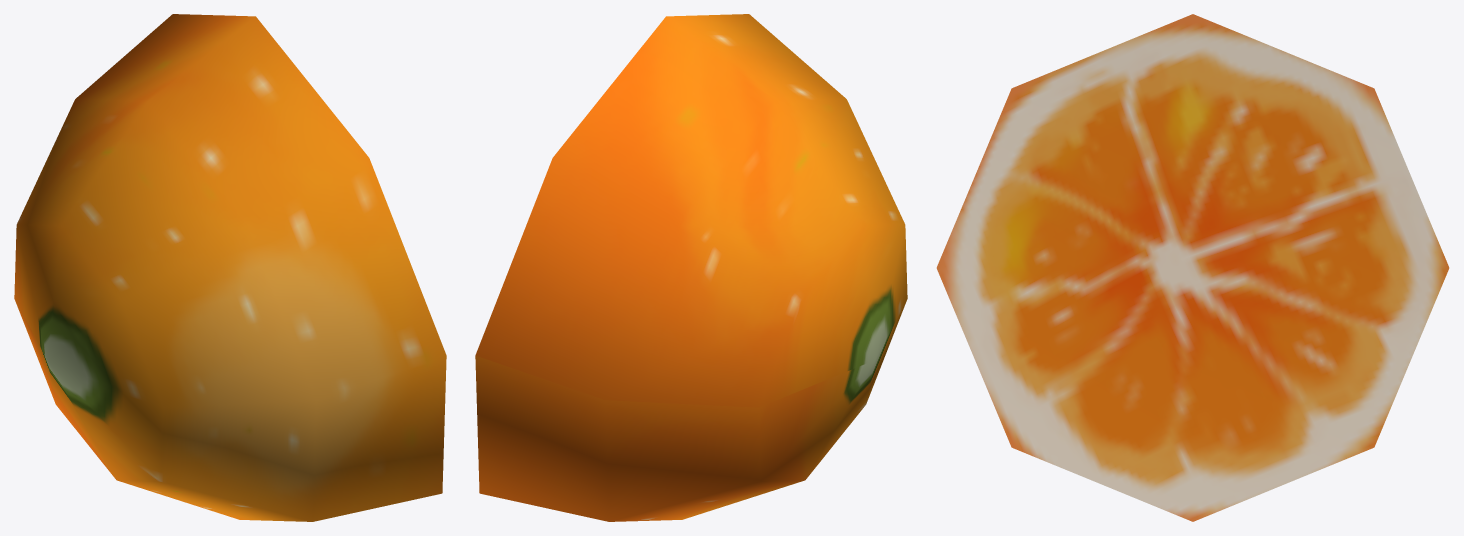
Rendered from SM_PROP_food_orange_02.FBX.
3 views of the same model, side by side, from view 1: azimuth 30°, elevation 25°; view 2: azimuth 150°, elevation 25°; view 3: azimuth 270°, elevation 25° (orthographic). The views are drawn at different scales.
Visible parts, largest first — view 1: SM_PROP_food_orange_02; view 2: SM_PROP_food_orange_02; view 3: SM_PROP_food_orange_02.
Part boxes in pixels (<box>): SM_PROP_food_orange_02: <box>14,14,446,521</box>; SM_PROP_food_orange_02: <box>475,14,907,521</box>; SM_PROP_food_orange_02: <box>936,14,1449,521</box>.
Bounding box in the file's own units: 12.23 × 18.88 × 18.73.
